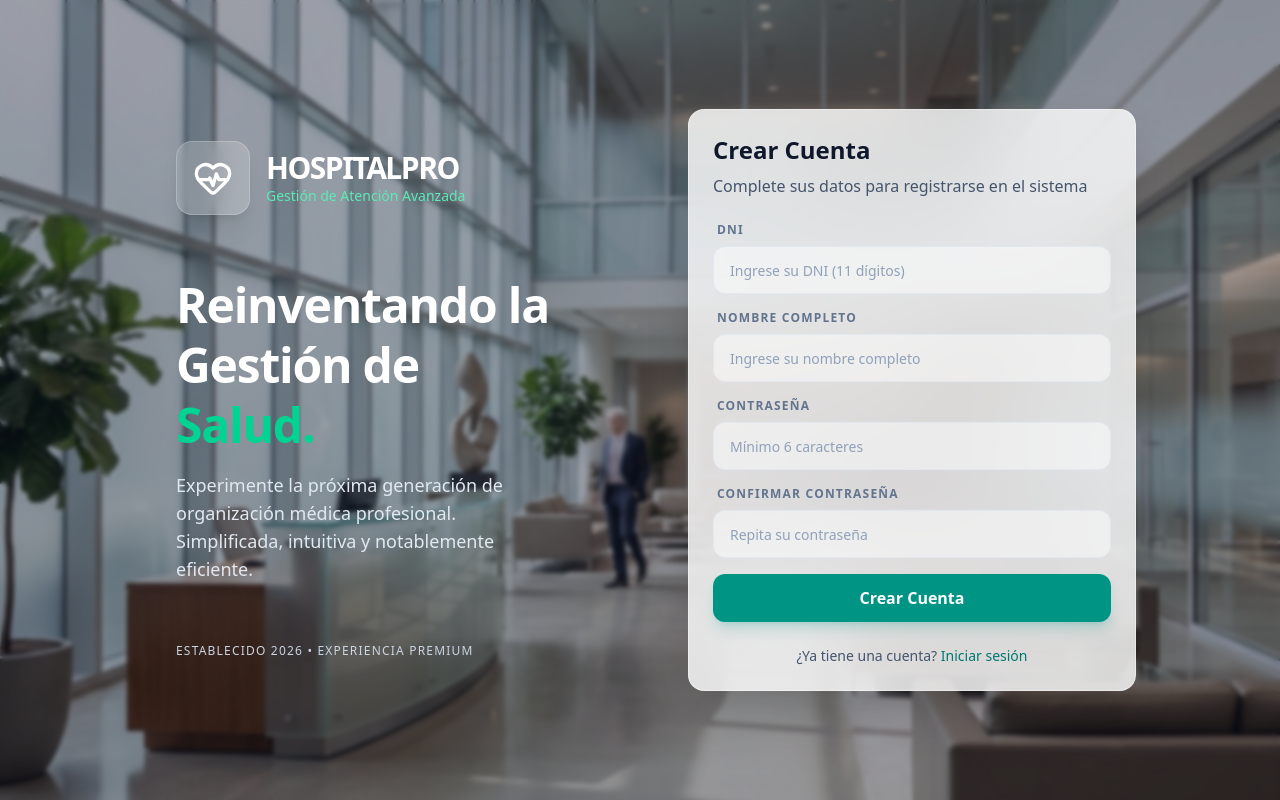
Test case: Register › shows validation errors for empty fields
Click the button "Crear Cuenta" at (912, 598), box [713,574,1111,622]
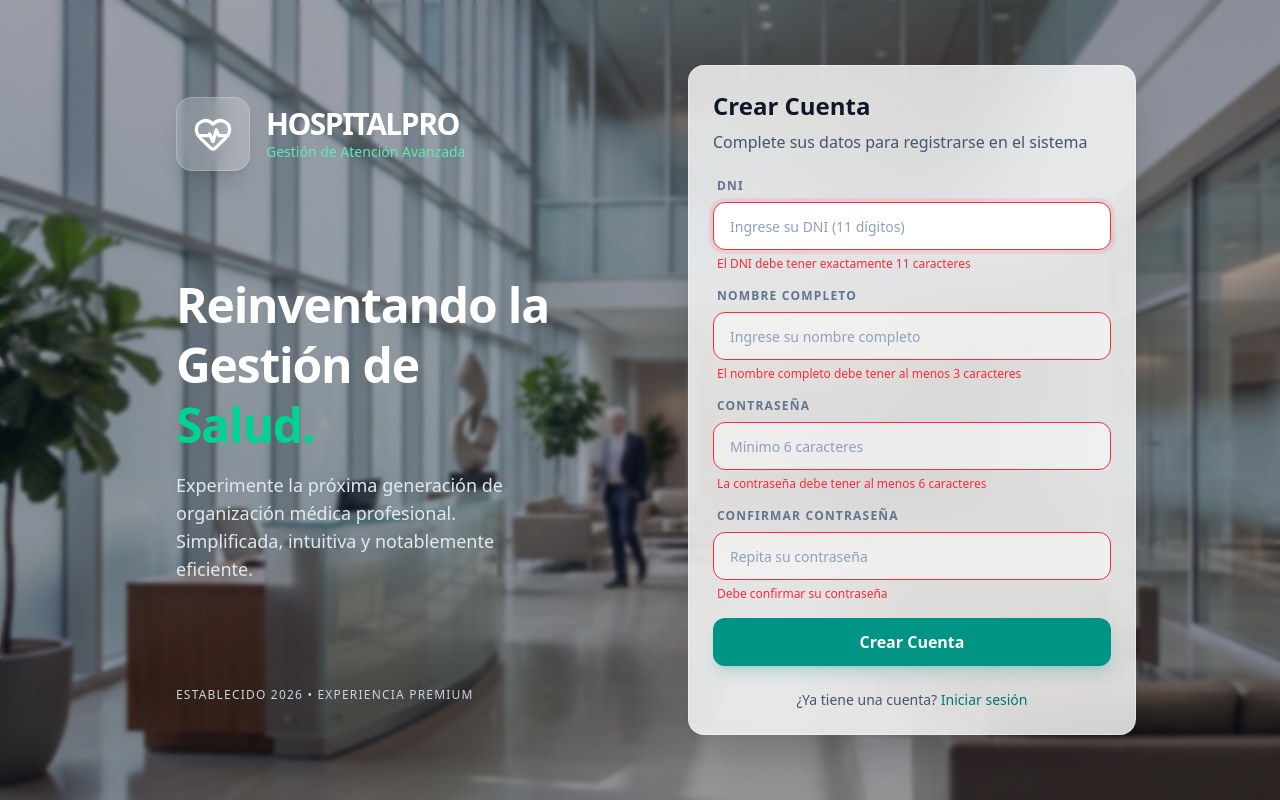
Expected: the text "El DNI debe tener exactamente 11 caracteres" is shown, [717,255,971,272]
Expected: the text "El nombre completo debe tener al menos 3 caracteres" is shown, [717,365,1021,382]
Expected: the text "La contraseña debe tener al menos 6 caracteres" is shown, [717,475,986,492]
